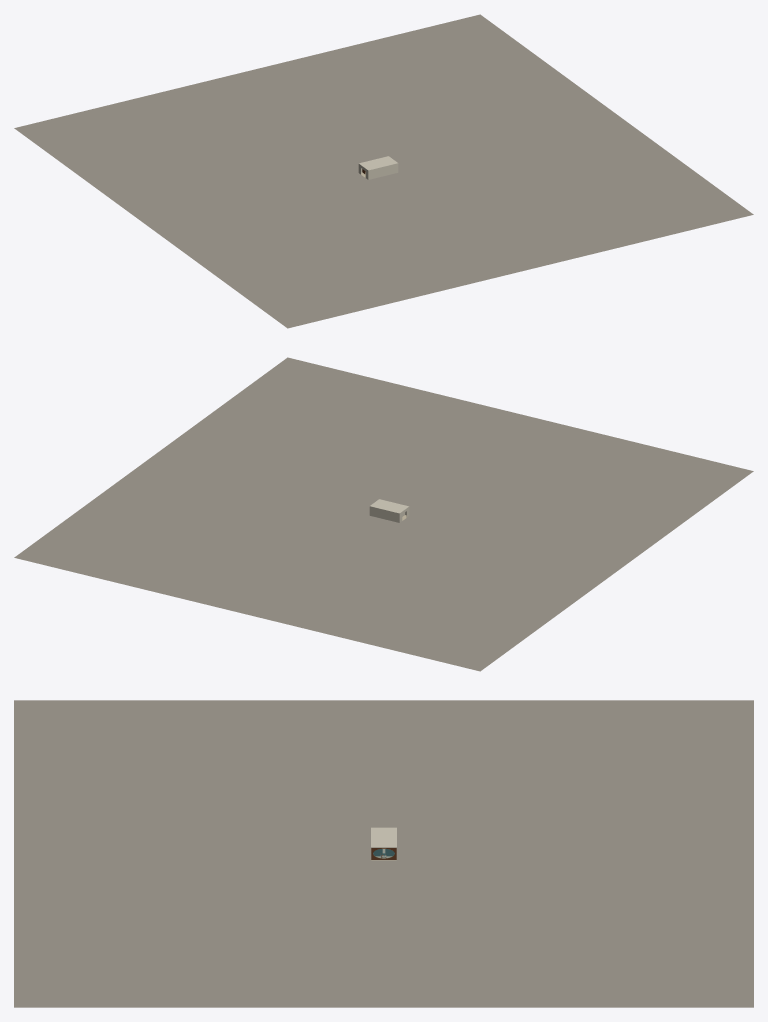
File: StarAtlasSpecialty_533.glb
3 views of the same model, one above another, from view 1: azimuth 30°, elevation 25°; view 2: azimuth 150°, elevation 25°; view 3: azimuth 270°, elevation 25° (orthographic). The views are drawn at different scales.
Parts seen in each view (by area): view 1: SA533_ReservedRestSupport_02__Preview_Ground, SA533_ReservedRestSupport_01__Preview_Ground; view 2: SA533_ReservedRestSupport_01__Preview_Ground, SA533_ReservedRestSupport_02__Preview_Ground; view 3: SA533_ReservedRestSupport_01__Preview_Ground, SA533_ReservedRestSupport_02__Preview_Ground, SA533_Ceiling.
Part boxes in pixels (left/top/right/bottom): SA533_ReservedRestSupport_02__Preview_Ground: left=18, top=17, right=753, bottom=328; SA533_ReservedRestSupport_01__Preview_Ground: left=14, top=14, right=662, bottom=324; SA533_ReservedRestSupport_01__Preview_Ground: left=14, top=360, right=749, bottom=671; SA533_ReservedRestSupport_02__Preview_Ground: left=156, top=357, right=753, bottom=667; SA533_ReservedRestSupport_01__Preview_Ground: left=26, top=700, right=753, bottom=1007; SA533_ReservedRestSupport_02__Preview_Ground: left=14, top=700, right=741, bottom=1007; SA533_Ceiling: left=371, top=827, right=396, bottom=847.
Size of the model in its own units: 200 by 4.91 by 203.
Materials: 69 (43 with a texture image).
